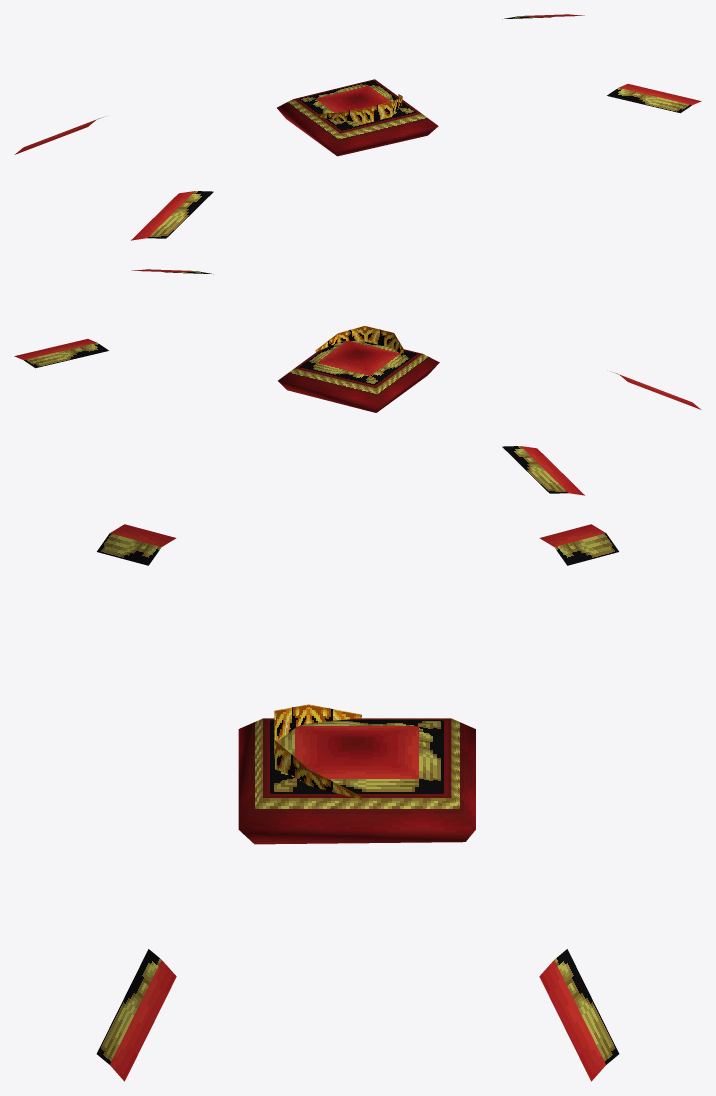
3 views of the same model, one above another, from view 1: azimuth 30°, elevation 25°; view 2: azimuth 150°, elevation 25°; view 3: azimuth 270°, elevation 25° (orthographic). The views are drawn at different scales.
Visible parts, largest first — view 1: 5334um_ac_hed2; view 2: 5334um_ac_hed2; view 3: 5334um_ac_hed2.
Boxes of the visible parts, box(x1,y1,x2,y2) form: 5334um_ac_hed2: box(14, 14, 701, 240); 5334um_ac_hed2: box(14, 269, 701, 495); 5334um_ac_hed2: box(96, 524, 619, 1081).
Size of the model in its own units: 5.26 by 0.3518 by 2.08.
2 materials, 2 textured.
